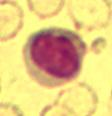lymphocyte: (20, 23, 89, 86)
